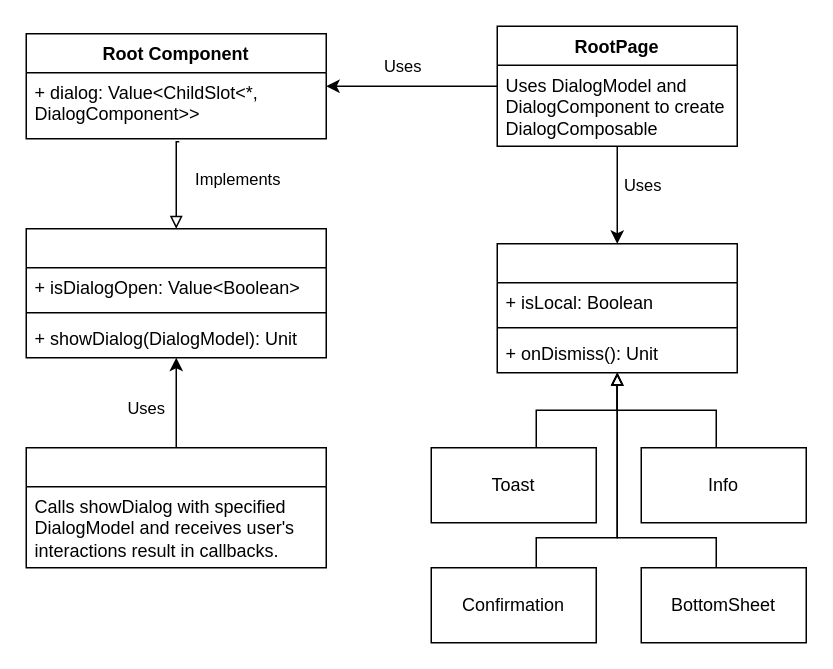
The diagram is 833 pixels wide and 669 high, and some of its shapes have lost their labels. The shapes that lost their labels are listed below. From the top down, each one's box as (x1, y1, x2, y2) in pixels, then its label:
(25, 227, 326, 358): DialogHolder
(496, 242, 737, 373): DialogModel
(25, 446, 326, 568): SomeScreenComponent
